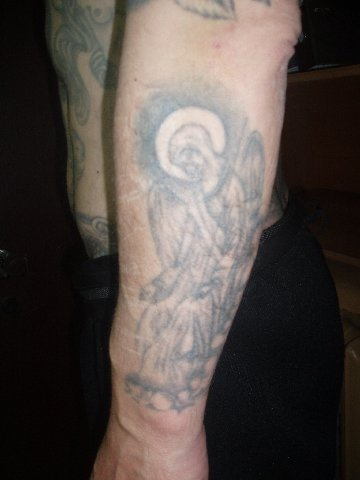tatu1_angel: (133, 99, 259, 333)
